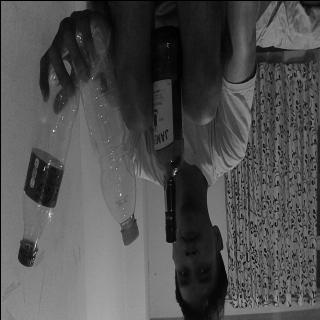objects: (148, 26, 183, 242)
plastic_bottles: (73, 26, 138, 244), (16, 68, 78, 266)
